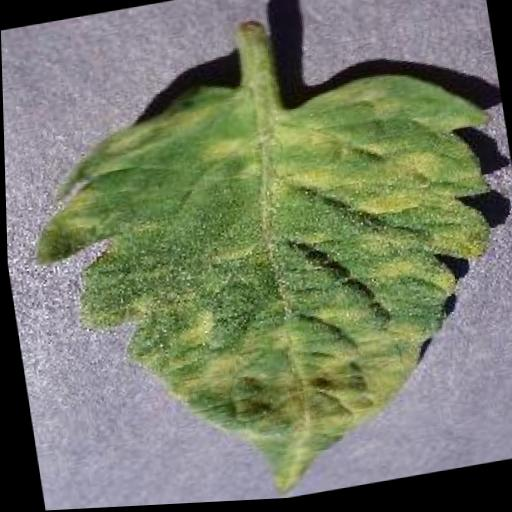Leaf Mold: (10, 40, 512, 512)
